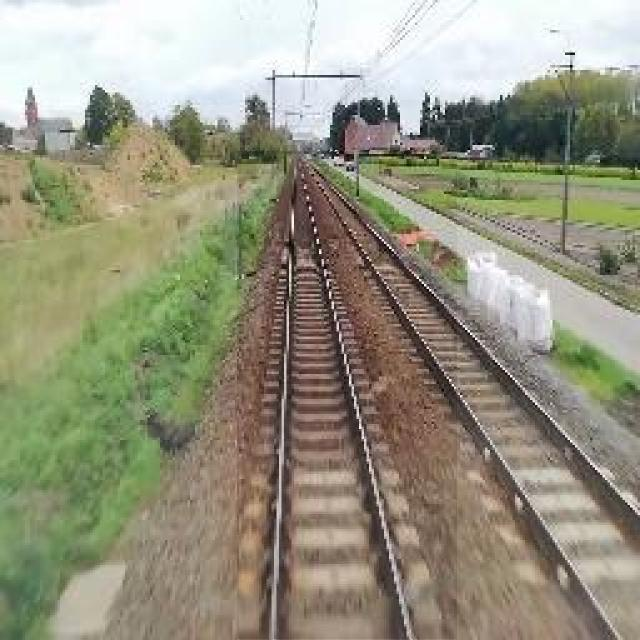rail: (238, 153, 458, 640)
